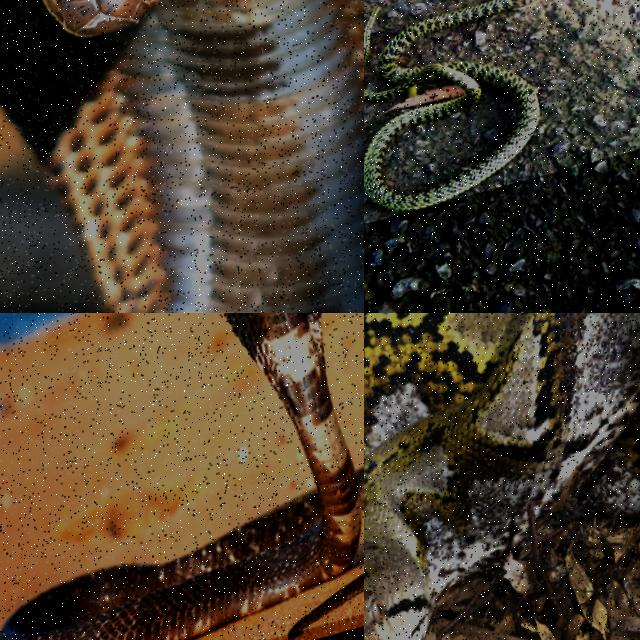Chrysopelea ornata: (364, 0, 540, 210)
Malayopython reticulatus: (364, 313, 639, 639)
Ophiophagus hannah: (0, 313, 363, 639), (0, 0, 363, 312)
snake: (0, 313, 363, 639), (0, 0, 363, 312), (364, 313, 639, 639), (364, 0, 540, 210)
